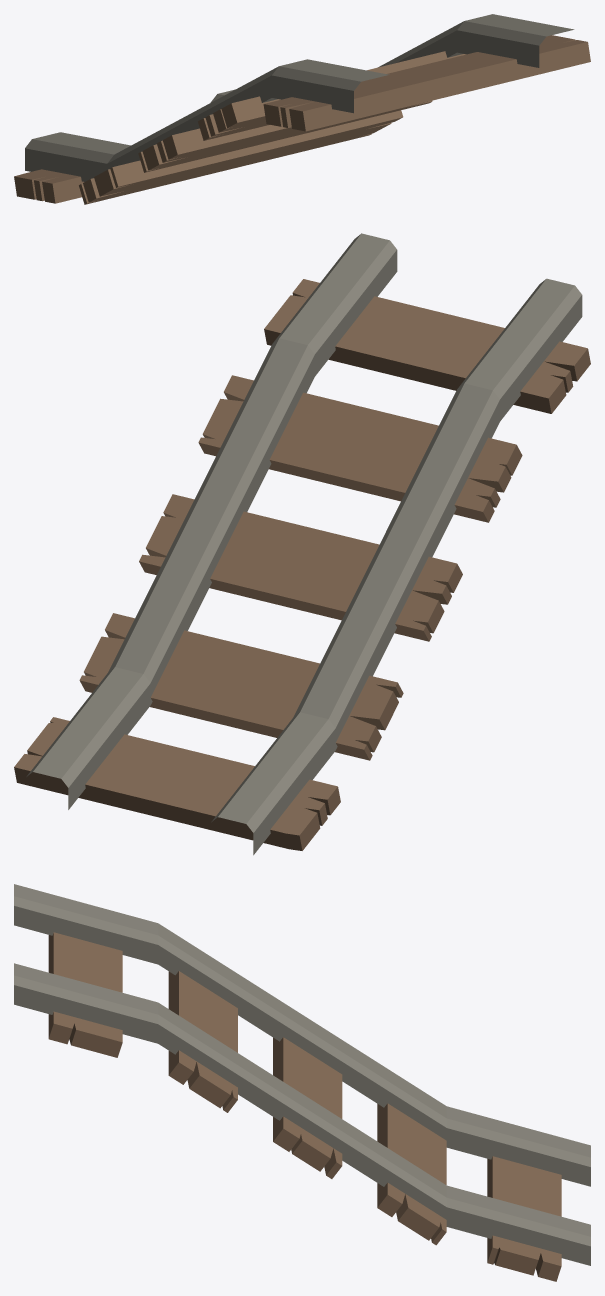
File: Cave_Prop_Railway_Hill_Sharp.glb
The picture shows the model from 3 angles, top to bottom: view 1: azimuth 30°, elevation 25°; view 2: azimuth 150°, elevation 25°; view 3: azimuth 270°, elevation 25°; orthographic projection. The views are drawn at different scales.
Visible parts, largest first — view 1: Cave_Prop_Railway_Hill_Sharp; view 2: Cave_Prop_Railway_Hill_Sharp; view 3: Cave_Prop_Railway_Hill_Sharp.
Part boxes in pixels (x1,y1,x2,y2): Cave_Prop_Railway_Hill_Sharp: (14,14,590,204); Cave_Prop_Railway_Hill_Sharp: (14,233,590,855); Cave_Prop_Railway_Hill_Sharp: (14,884,590,1281).
Bounding box in the file's own units: 1 × 1.11 × 2.
